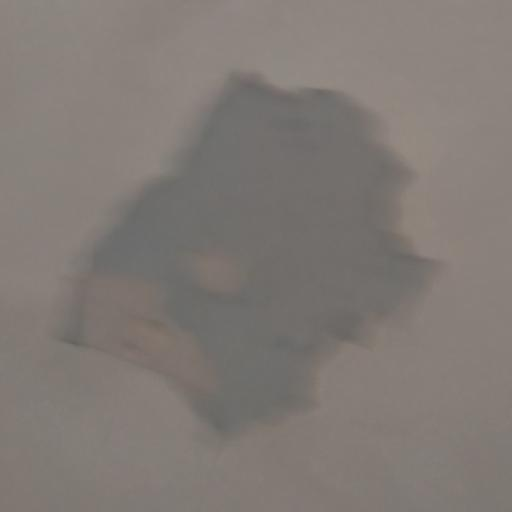peeling: (48, 57, 450, 445)
